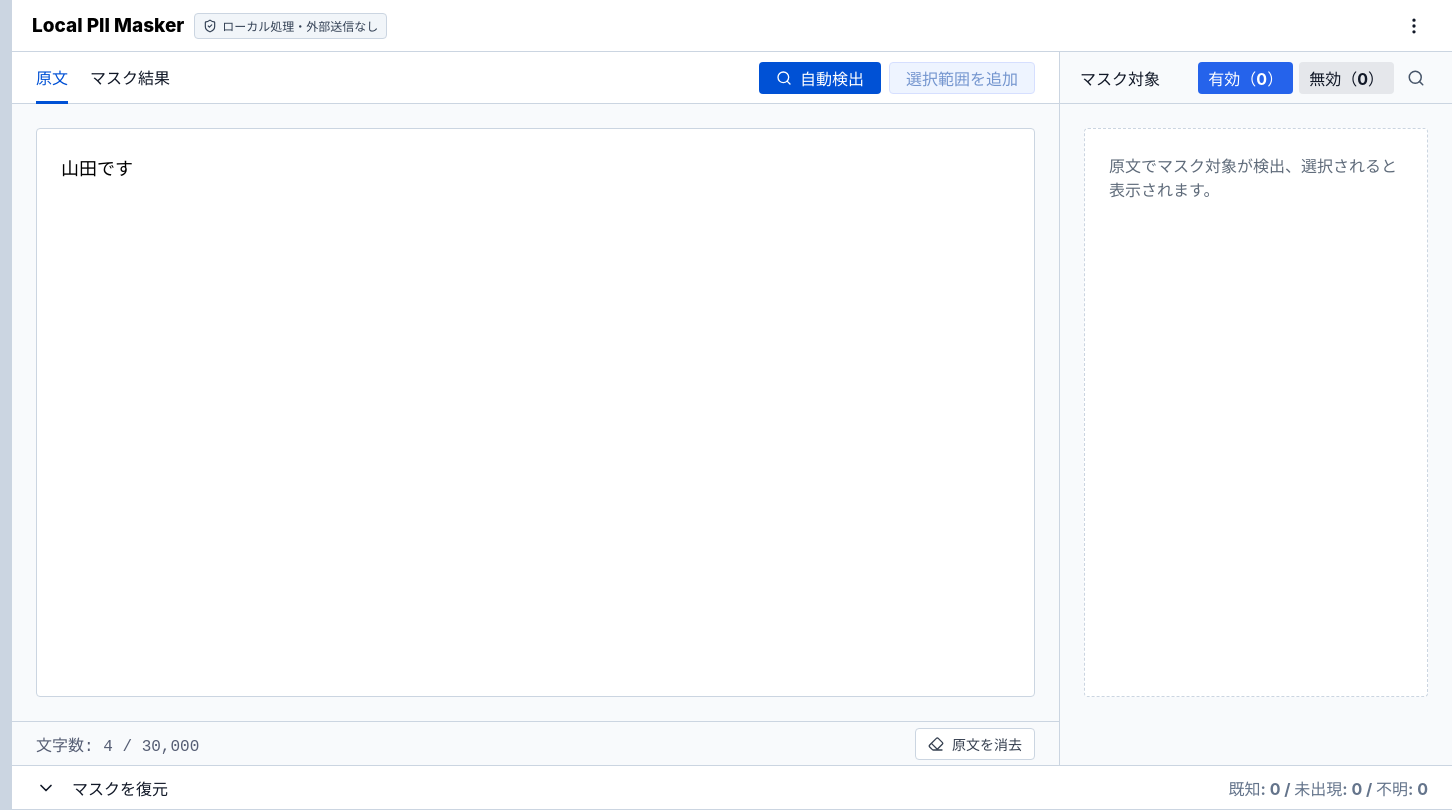
App › ヘッダーメニューをマスク対応表と現在の作業の2グループに分ける
Click the button named "メニュー".
click(1414, 26)  # box [1396,8,1432,44]
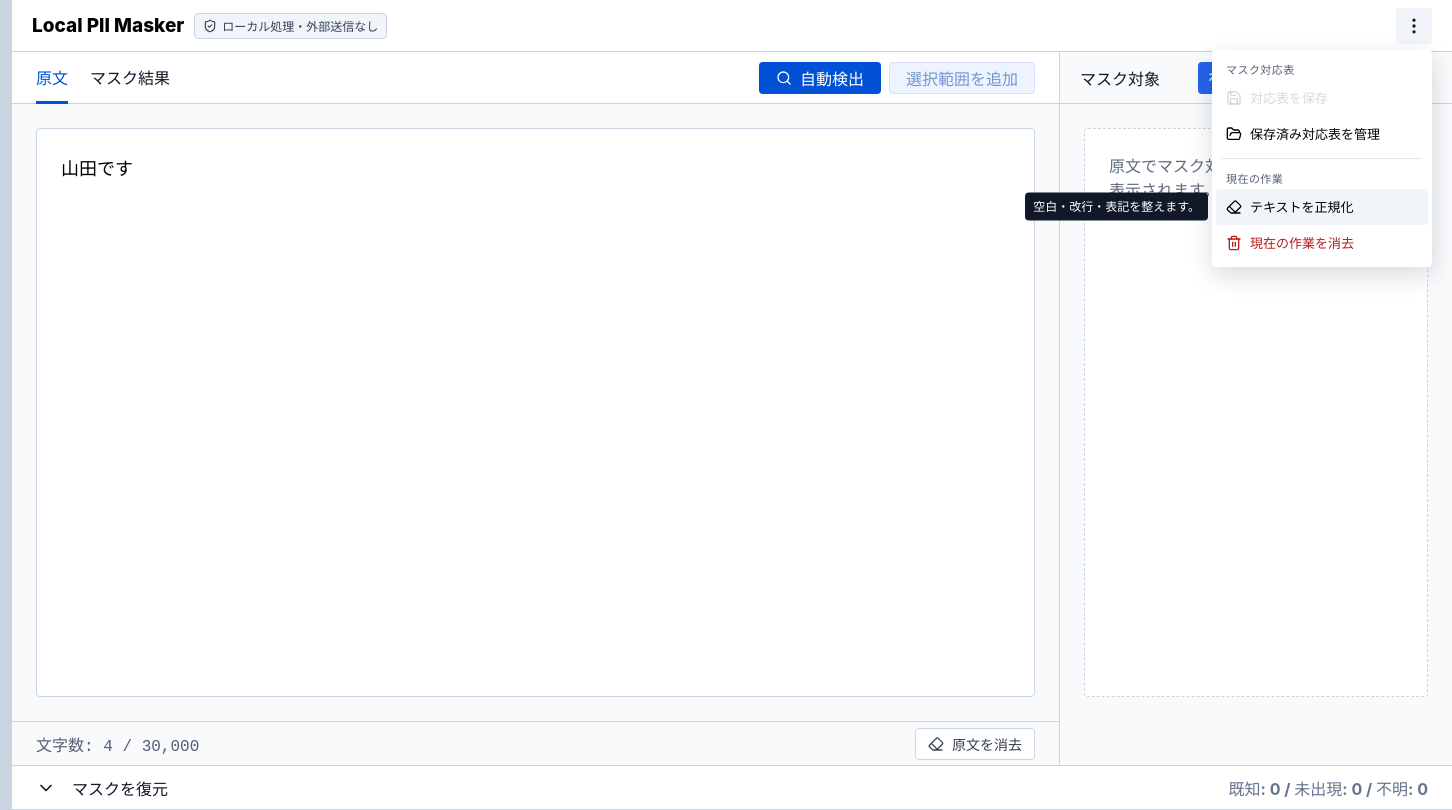
expect the menu item "対応表を保存" is shown: met, box [1216,80,1428,116]
expect the menu item "保存済み対応表を管理" is shown: met, box [1216,116,1428,152]
expect the menu item "テキストを正規化" is shown: met, box [1216,188,1428,224]
